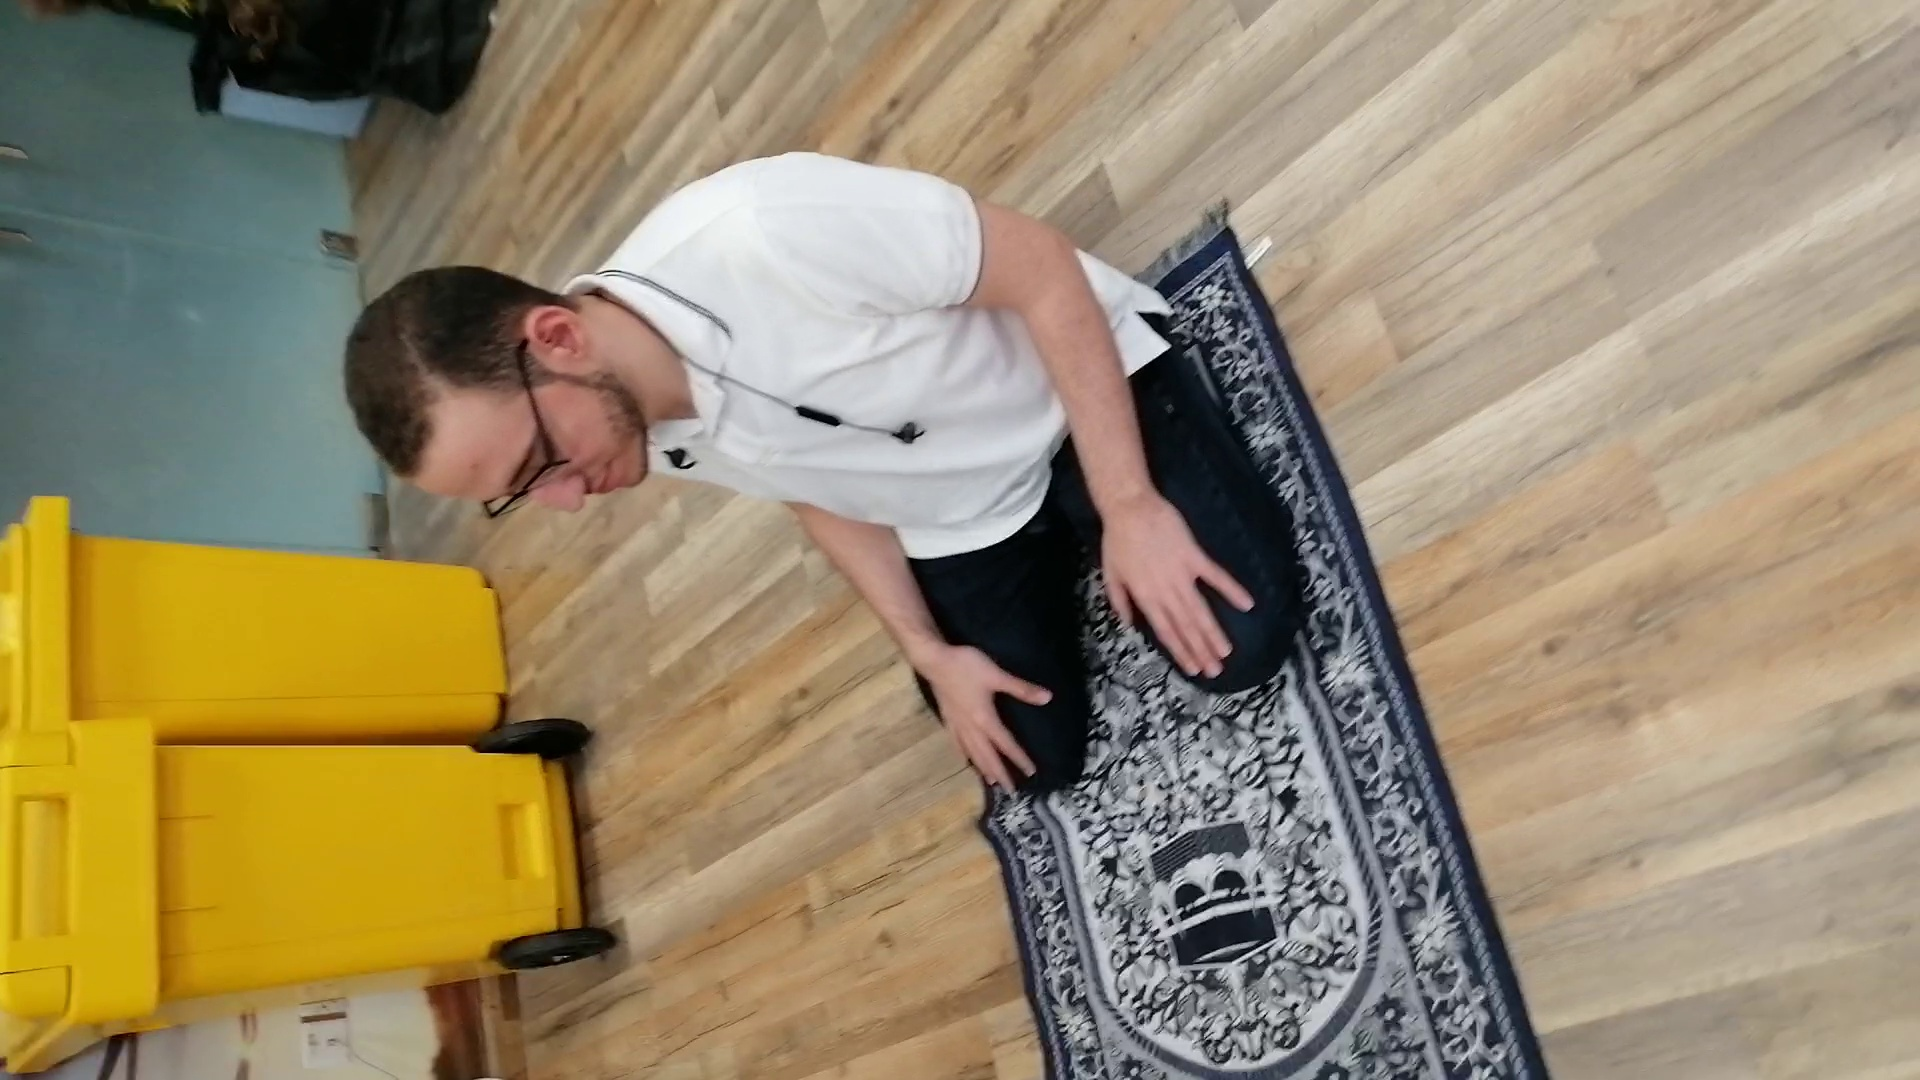sitting: (328, 140, 1321, 807)
